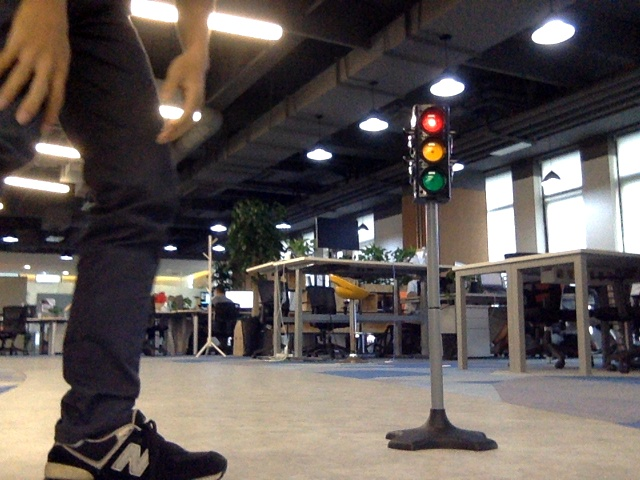red: (411, 109, 448, 194)
